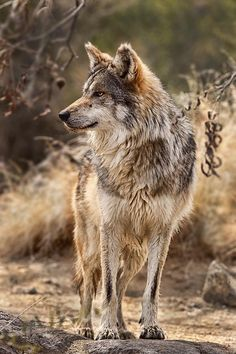Lobo: (42, 30, 201, 339)
